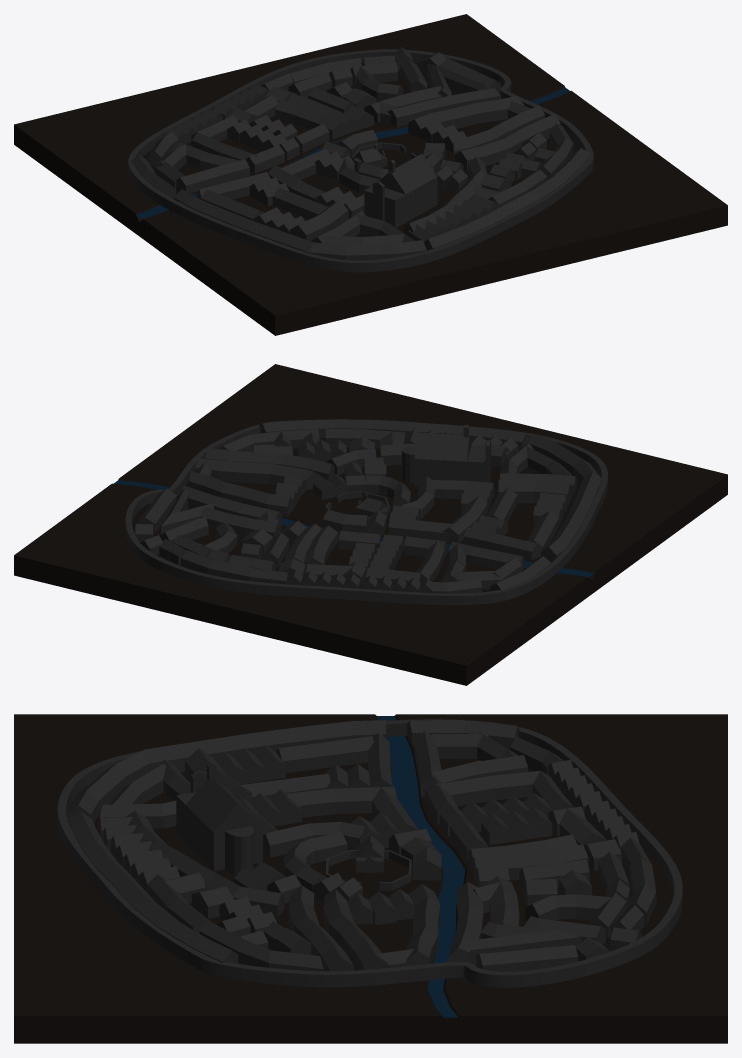
Rendered from BlockOut_01_v01.obj.
The picture shows the model from 3 angles, top to bottom: view 1: azimuth 30°, elevation 25°; view 2: azimuth 150°, elevation 25°; view 3: azimuth 270°, elevation 25°; orthographic projection. The views are drawn at different scales.
Parts seen in each view (by area): view 1: Ground, OuterWall, Church01.001, House.097, House.098, House.013, House.068, House.044, House.017, House.061, House.021, House.032 (+29 smaller); view 2: Ground, OuterWall, Church01.001, House.097, House.098, House.017, House.013, House.068, House.033, House.032, House.044, House.039 (+30 smaller); view 3: Ground, OuterWall, House.097, Church01.001, Water, House.098, House.017, House.068, House.043, House.028, House.107, House.055 (+58 smaller).
Boxes of the visible parts, left/top/right/bottom form: Ground: left=14, top=14, right=727, bottom=335; OuterWall: left=128, top=49, right=593, bottom=272; Church01.001: left=364, top=153, right=437, bottom=227; House.097: left=174, top=189, right=426, bottom=260; House.098: left=424, top=148, right=591, bottom=250; House.013: left=408, top=96, right=524, bottom=138; House.068: left=454, top=114, right=560, bottom=170; House.044: left=387, top=88, right=500, bottom=126; House.017: left=453, top=105, right=544, bottom=160; House.061: left=175, top=159, right=249, bottom=193; House.021: left=275, top=100, right=344, bottom=139; House.032: left=290, top=200, right=348, bottom=241; Ground: left=14, top=364, right=727, bottom=685; OuterWall: left=125, top=419, right=607, bottom=605; Church01.001: left=401, top=425, right=491, bottom=486; House.097: left=529, top=433, right=601, bottom=562; House.098: left=258, top=419, right=530, bottom=450; House.017: left=195, top=458, right=321, bottom=490; House.013: left=189, top=471, right=292, bottom=516; House.068: left=205, top=448, right=334, bottom=480; House.033: left=464, top=527, right=541, bottom=560; House.032: left=498, top=479, right=571, bottom=505; House.044: left=182, top=485, right=282, bottom=524; House.039: left=200, top=507, right=281, bottom=537; Ground: left=14, top=714, right=727, bottom=1043; OuterWall: left=57, top=719, right=682, bottom=987; House.097: left=65, top=720, right=386, bottom=822; Church01.001: left=176, top=762, right=262, bottom=874; Water: left=377, top=716, right=465, bottom=1017; House.098: left=67, top=812, right=238, bottom=963; House.017: left=323, top=889, right=388, bottom=970; House.068: left=288, top=885, right=353, bottom=971; House.043: left=469, top=921, right=580, bottom=965; House.028: left=275, top=736, right=373, bottom=772; House.107: left=199, top=920, right=323, bottom=971; House.055: left=286, top=786, right=396, bottom=817.
Bounding box in the file's own units: 258 × 41.64 × 258.
